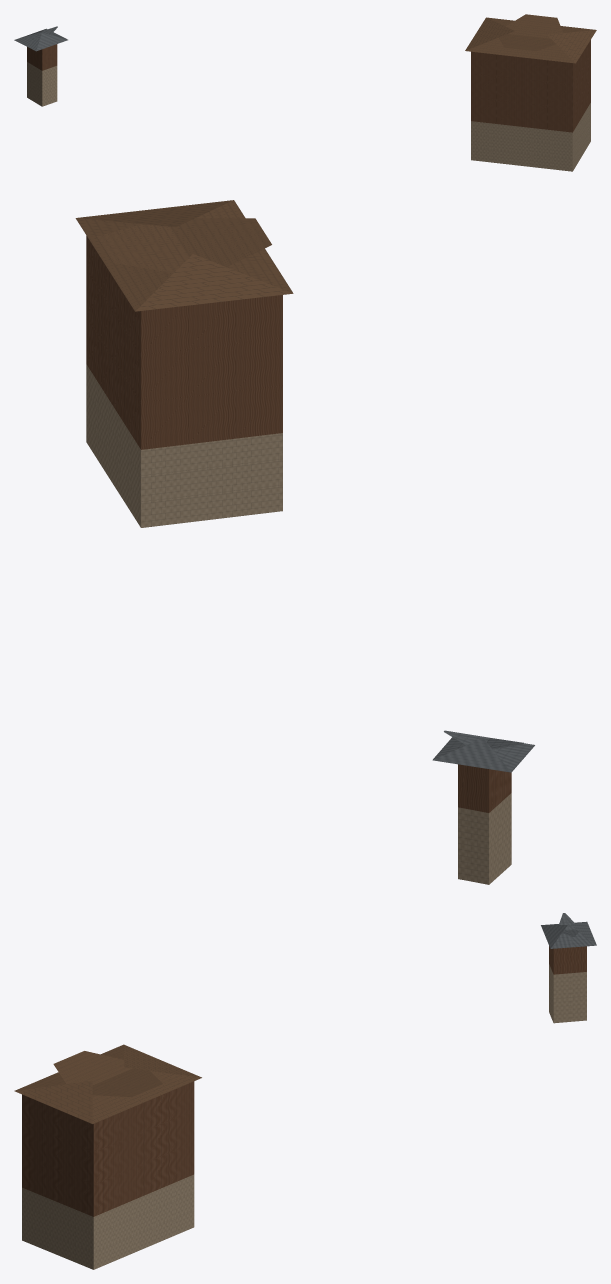
The model's file is bld_c4_5_497.gltf.
3 renders of one model, top to bottom at view 1: azimuth 30°, elevation 25°; view 2: azimuth 150°, elevation 25°; view 3: azimuth 270°, elevation 25°, orthographic. The views are drawn at different scales.
Parts seen in each view (by area): view 1: bld_c4_5_497; view 2: bld_c4_5_497; view 3: bld_c4_5_497.
Boxes of the visible parts, <box> form: bld_c4_5_497: <box>14,14,596,171</box>; bld_c4_5_497: <box>75,200,534,884</box>; bld_c4_5_497: <box>14,913,596,1269</box>.
Bounding box in the file's own units: 54.68 × 15.4 × 50.88.
4 materials, 4 textured.
